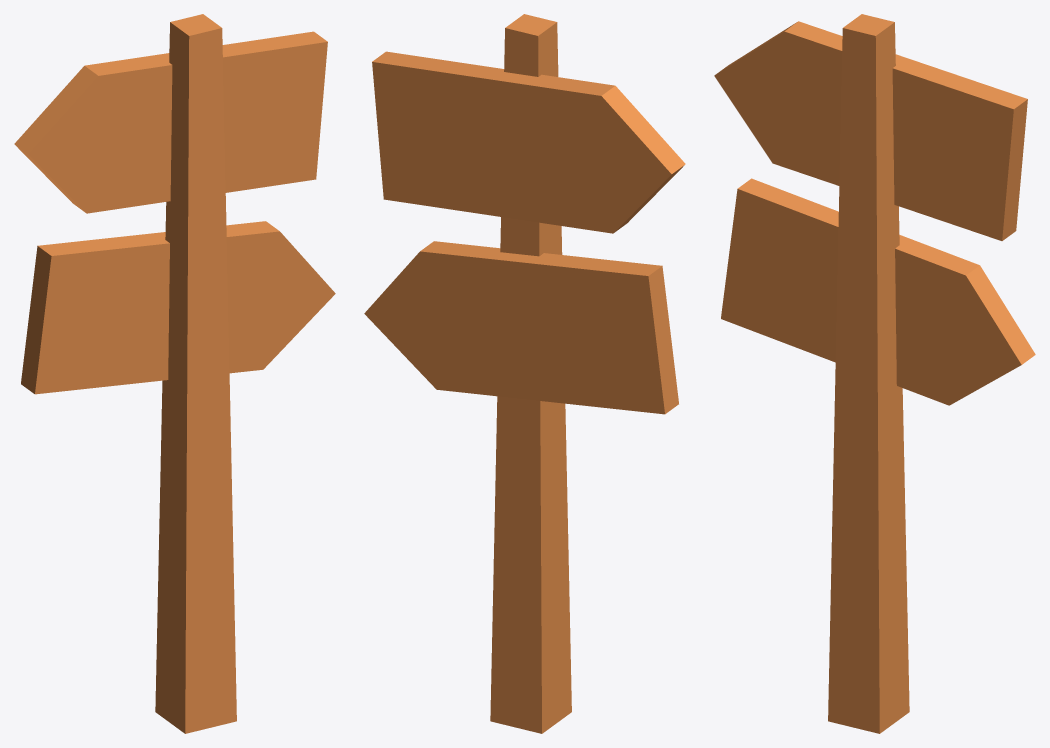
Rendered from signpost.glb.
3 views of the same model, side by side, from view 1: azimuth 30°, elevation 25°; view 2: azimuth 150°, elevation 25°; view 3: azimuth 330°, elevation 25° (orthographic).
Visible parts, largest first — view 1: signpost; view 2: signpost; view 3: signpost.
Boxes of the visible parts, x1,y1,x2,y2 form: signpost: (14,14,335,733); signpost: (364,14,685,733); signpost: (714,14,1035,733).
Size of the model in its own units: 0.2141 by 0.4601 by 0.043.
